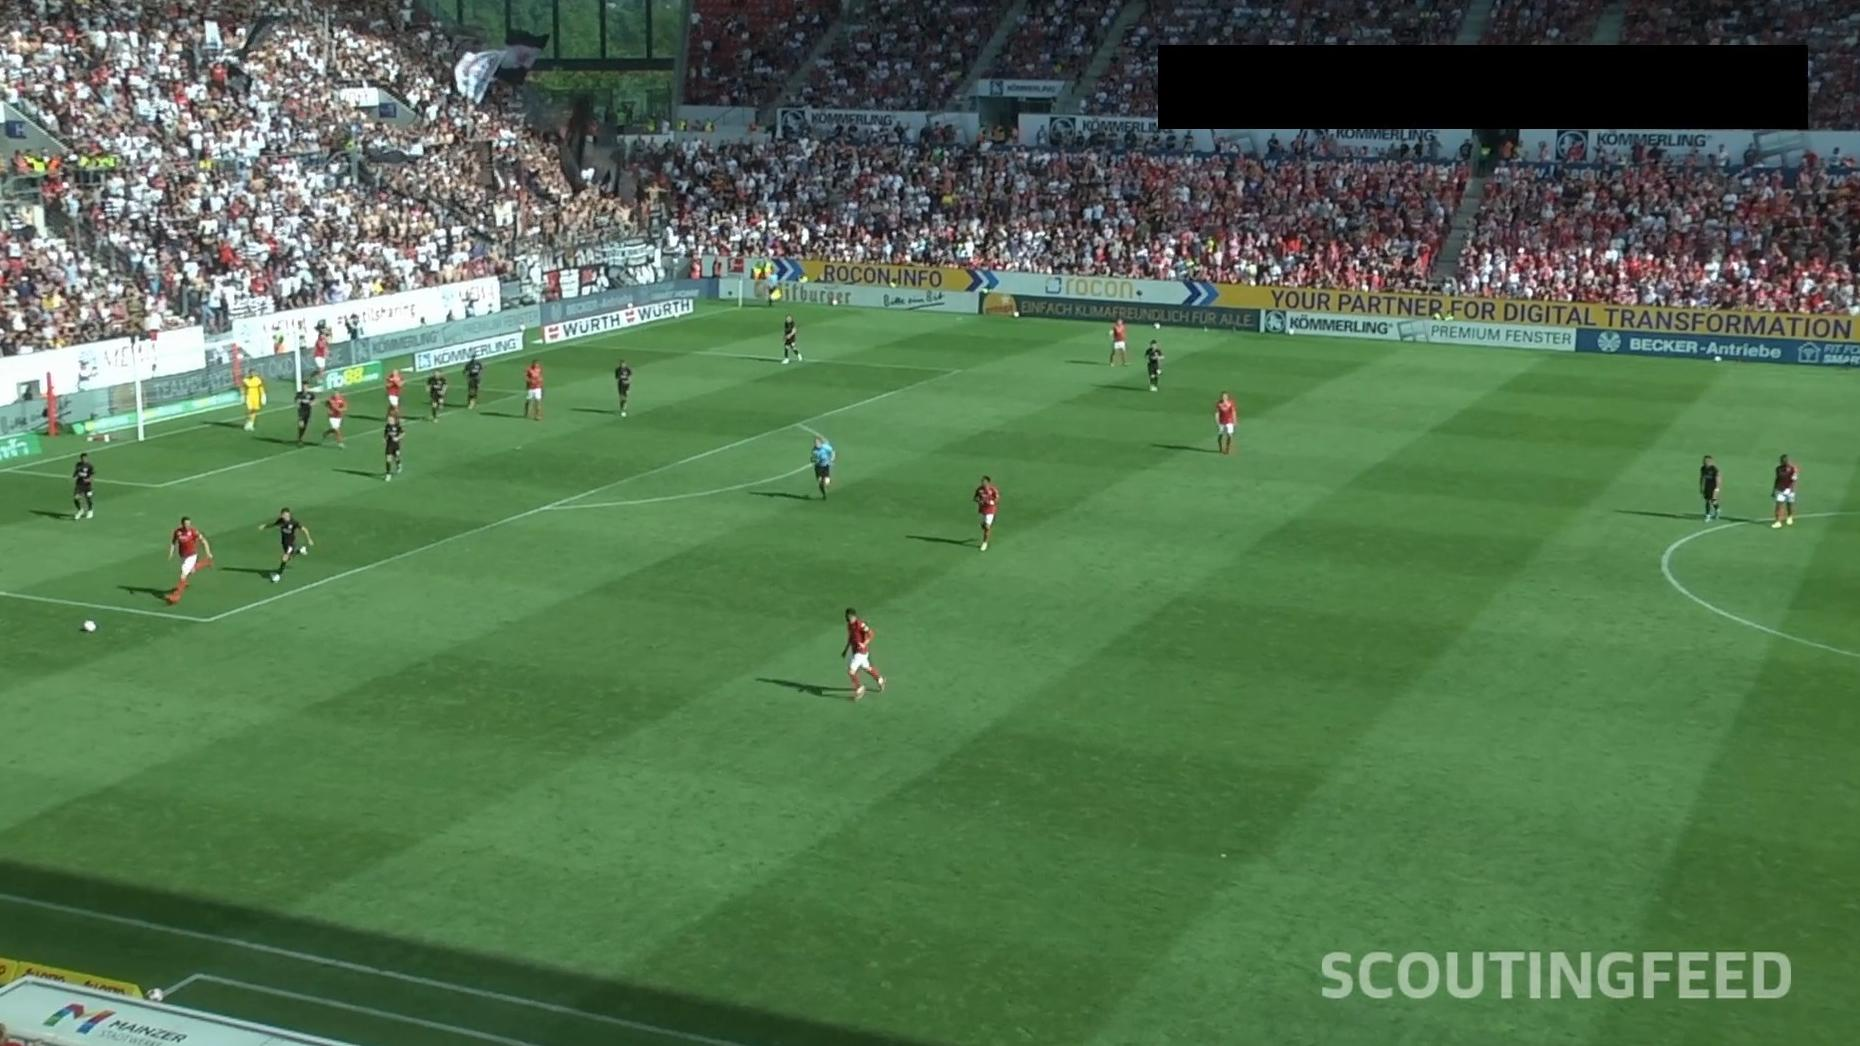ball: (83, 619, 97, 633)
